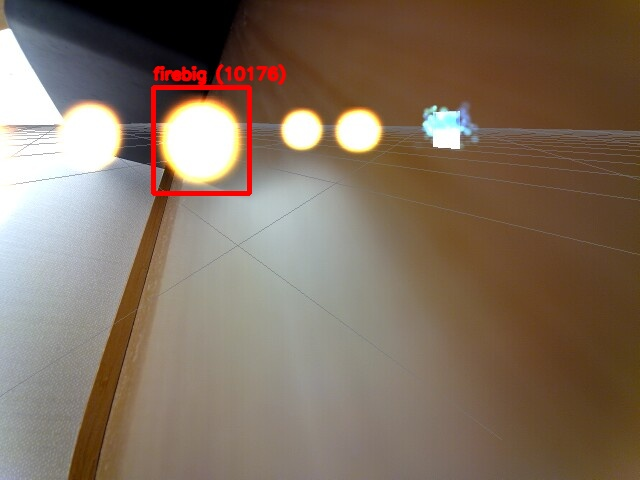firebig: (153, 87, 249, 193)
